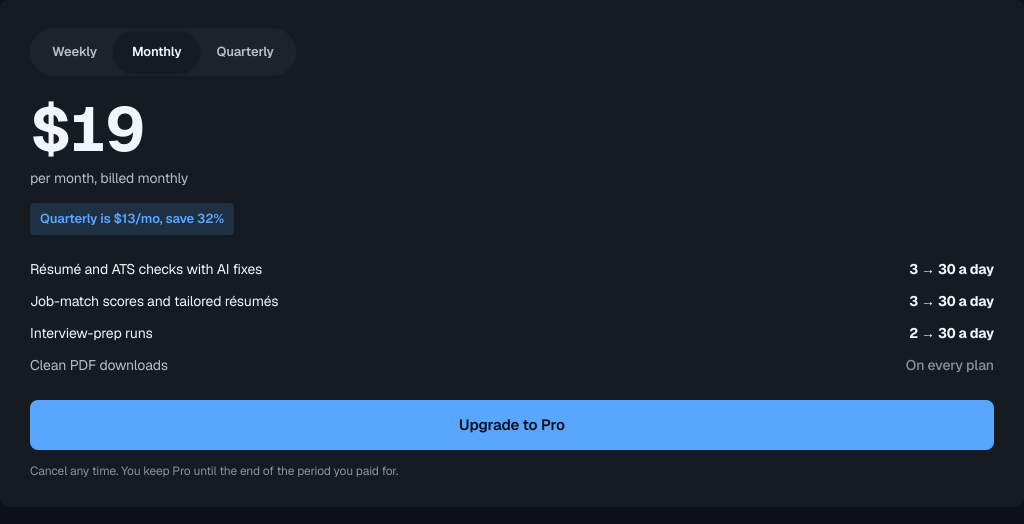
Test: PricingPlans weekly period › points a weekly reader at the cheaper monthly option
The image size is (1024, 524).
What coordinates should you click on to do the following:
click the button "Weekly"
I would click on:
 (74, 52)
Its box is top-left (34, 32), bottom-right (115, 72).
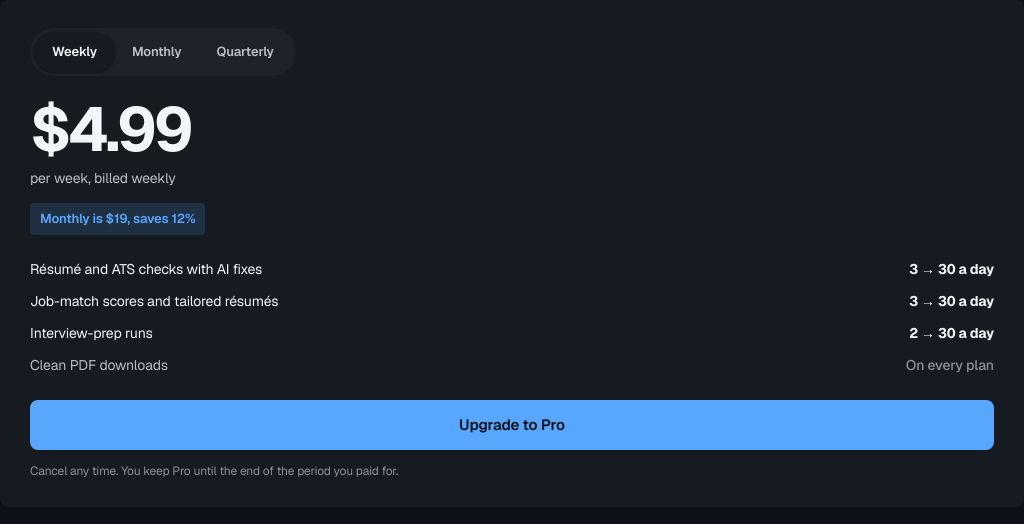
What coordinates should you click on to do the following:
click the button "Monthly is $19, saves 12%"
I would click on:
 (118, 219)
Its box is top-left (30, 203), bottom-right (205, 234).
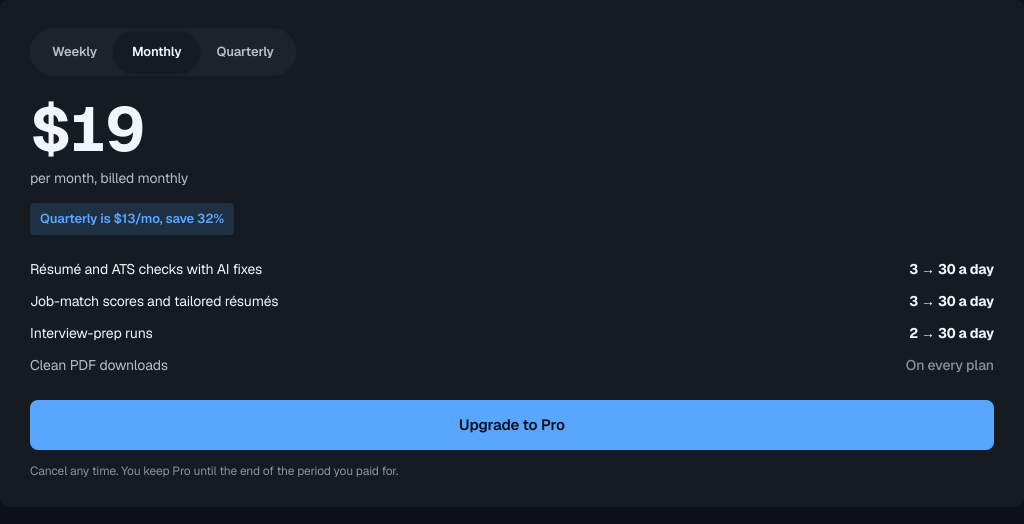
Expected: the text "$19" is shown, top-left (30, 89), bottom-right (142, 169)
